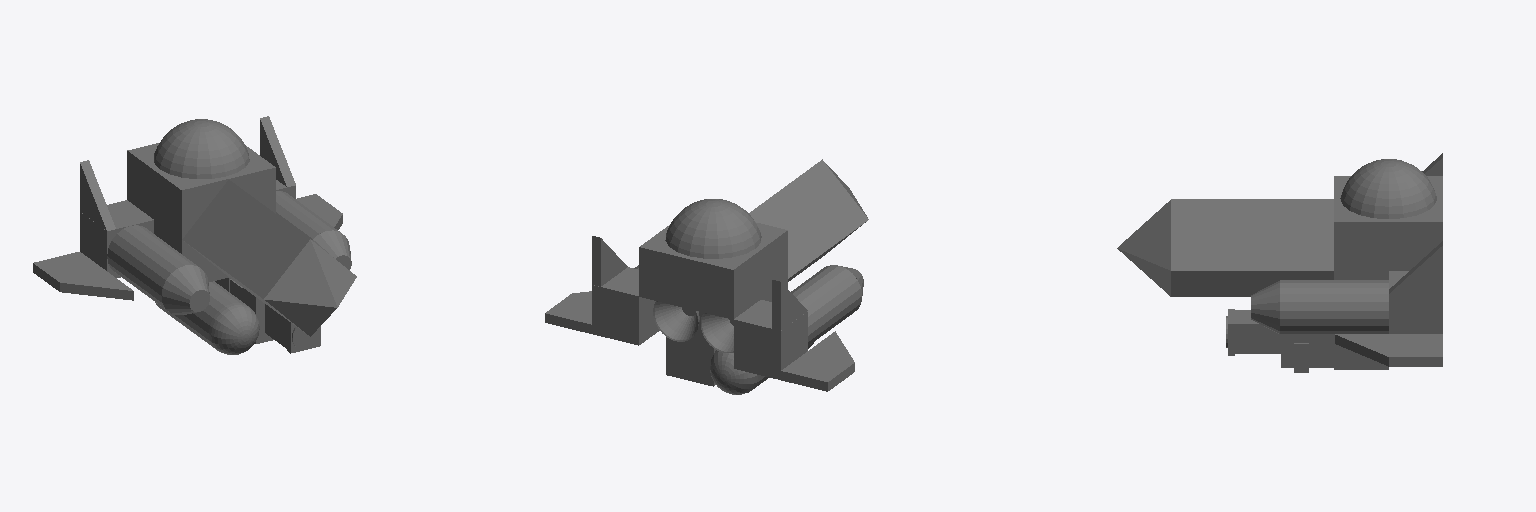
File: MC_Ship.obj
3 renders of one model, left to right at view 1: azimuth 30°, elevation 25°; view 2: azimuth 150°, elevation 25°; view 3: azimuth 270°, elevation 25°, orthographic.
Parts seen in each view (by area): view 1: MC_Steve:polySurface1; view 2: MC_Steve:polySurface1; view 3: MC_Steve:polySurface1.
Boxes of the visible parts, x1=… form: MC_Steve:polySurface1: x1=33, y1=116, x2=356, y2=354; MC_Steve:polySurface1: x1=545, y1=159, x2=868, y2=394; MC_Steve:polySurface1: x1=1117, y1=153, x2=1442, y2=372.
Bounding box in the file's own units: 2.99 × 1.87 × 2.98.